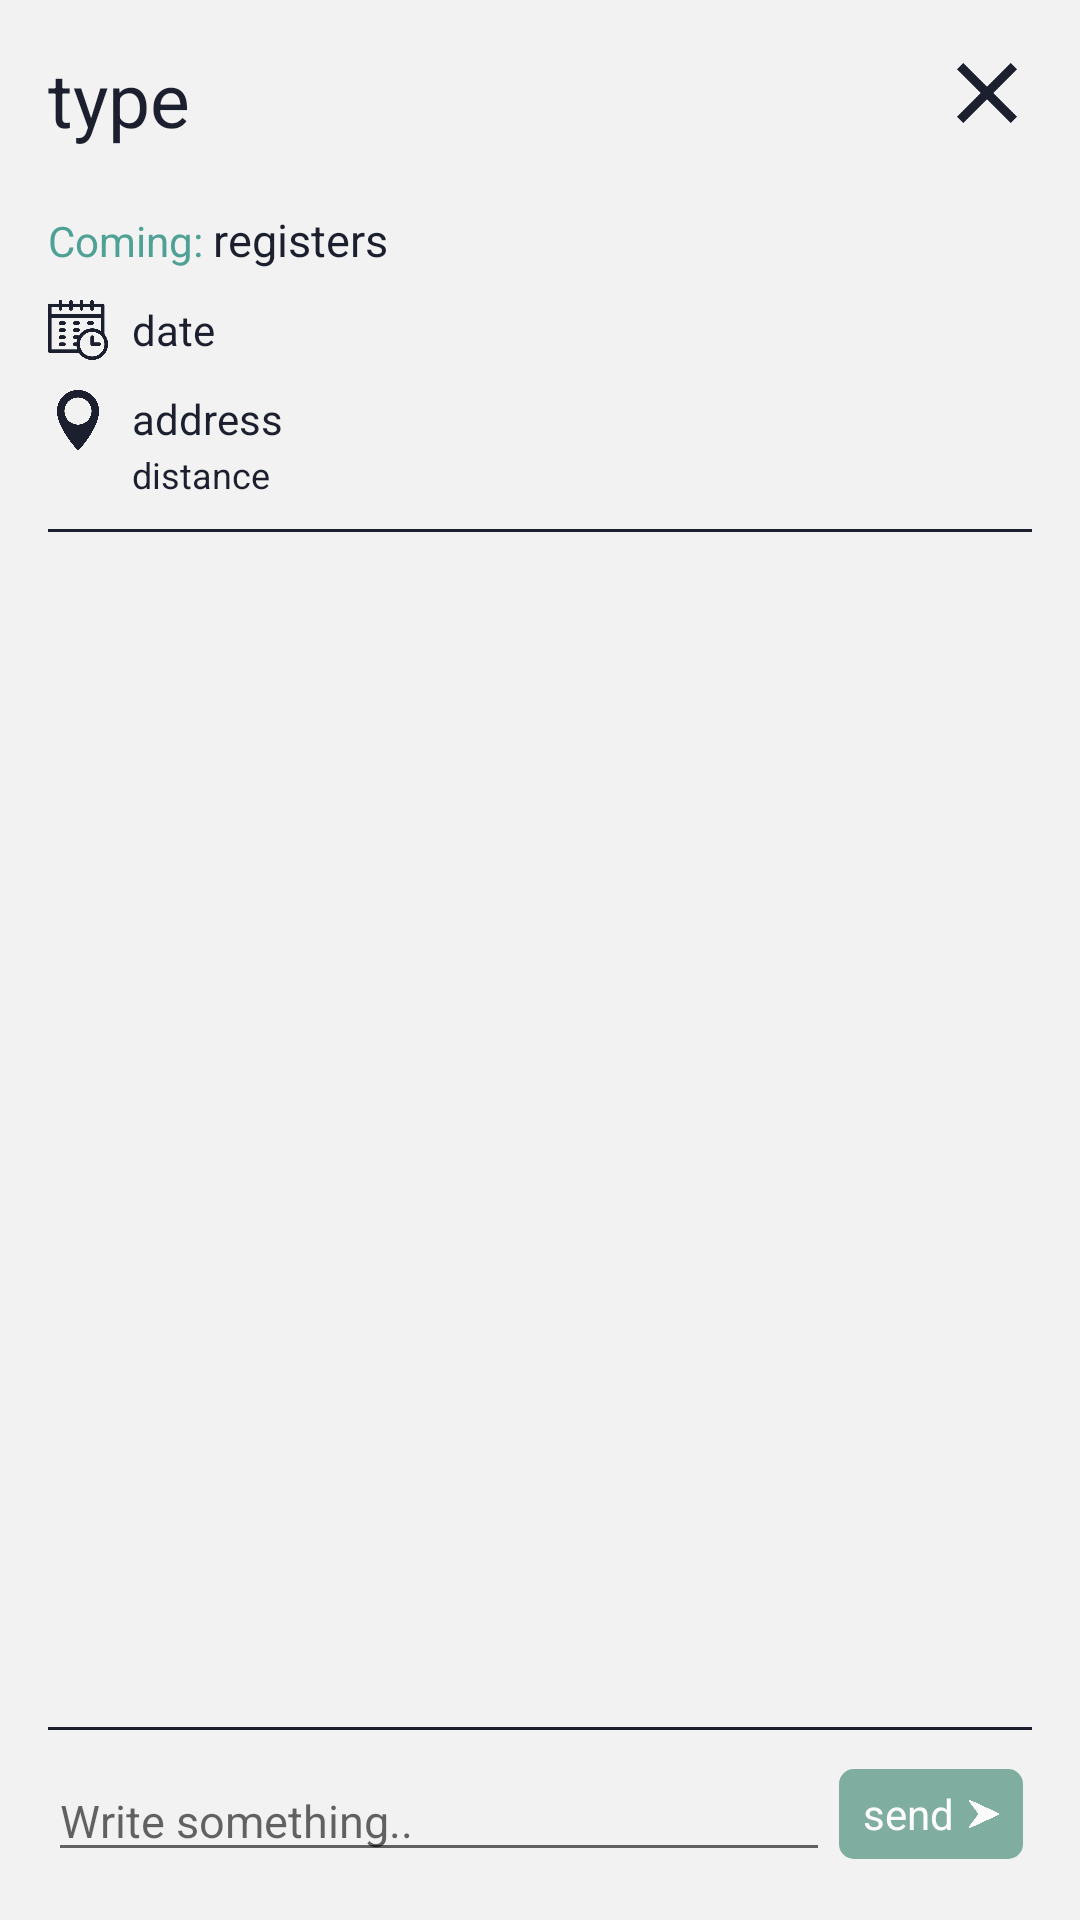

Screen size 1080w x 1920h. Icon name, then its box in pixels as (x1, y1, x2, y2):
clear: (957, 63, 1017, 123)
map: (57, 390, 99, 450)
timetable: (48, 300, 108, 360)
